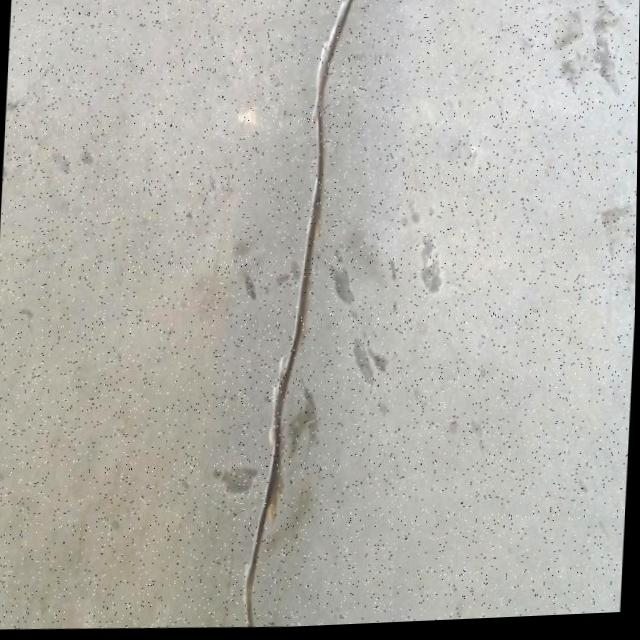Crack: (217, 0, 381, 632)
